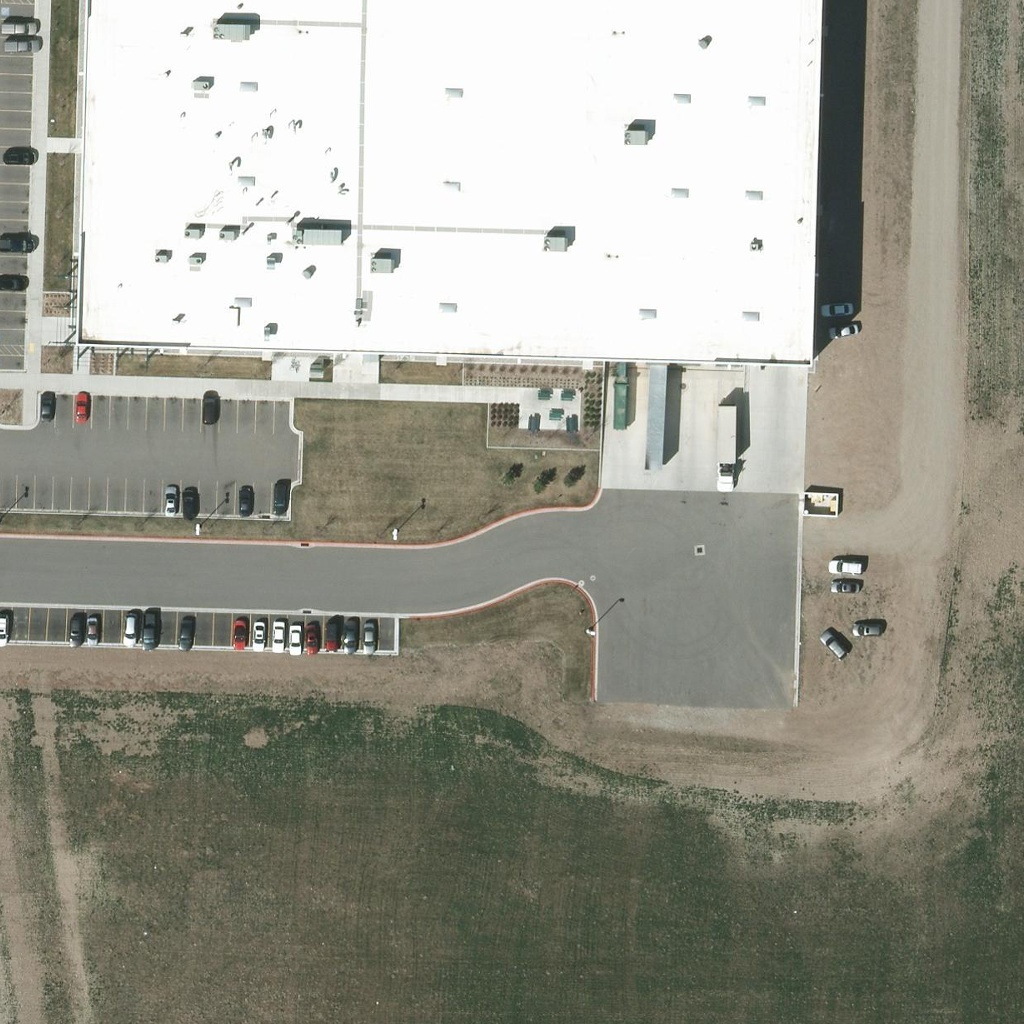car: (3, 11, 37, 45), (5, 28, 39, 62), (2, 141, 36, 175), (1, 228, 32, 262), (1, 266, 26, 300), (821, 630, 848, 661), (271, 482, 290, 519), (121, 610, 139, 649), (201, 392, 220, 426), (73, 391, 93, 423), (238, 485, 255, 519), (829, 323, 859, 342), (821, 300, 854, 317), (67, 613, 83, 648), (162, 484, 178, 517), (829, 581, 864, 596), (179, 615, 193, 651), (41, 390, 56, 422), (305, 627, 321, 657), (324, 622, 340, 652), (343, 624, 359, 654), (362, 625, 378, 655), (232, 619, 247, 650), (252, 621, 267, 652), (271, 622, 286, 653), (289, 625, 304, 656), (182, 488, 196, 521), (87, 617, 100, 648), (853, 624, 883, 637), (1, 611, 9, 647)
pickup: (141, 614, 159, 653)
van: (829, 558, 862, 575)
